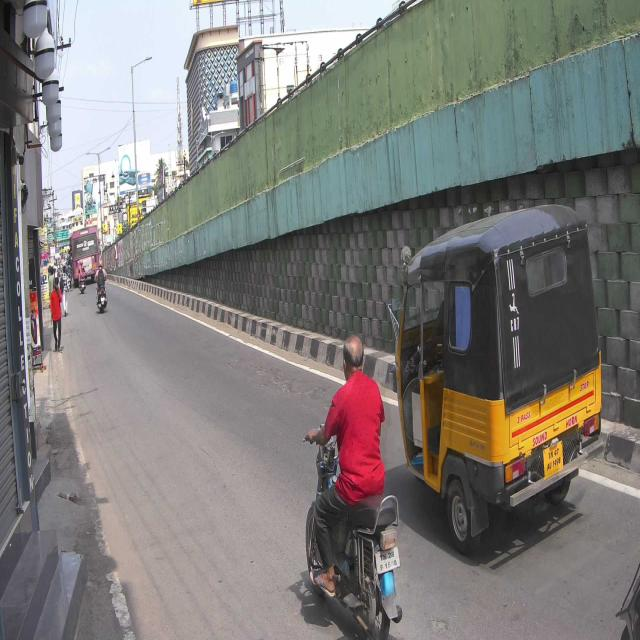single_rider: (301, 332, 404, 640)
